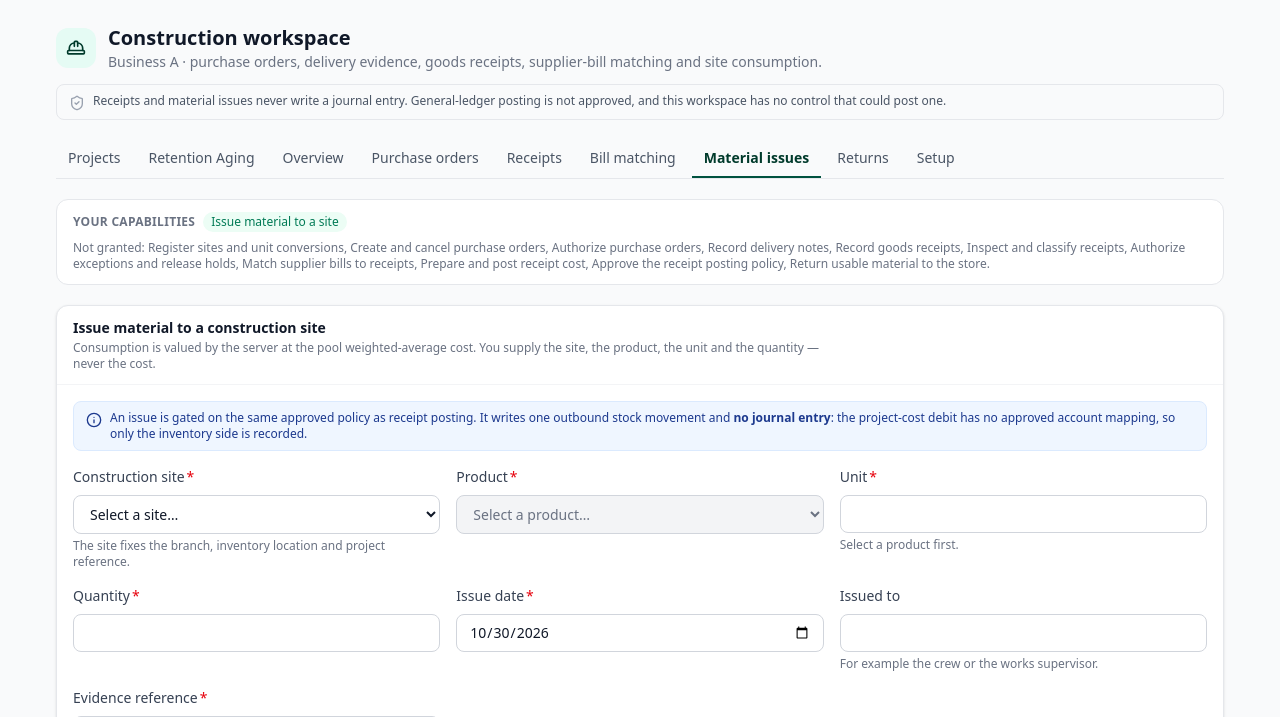
Construction workspace — material issues › uses the server-returned cost and never asks the operator for one
Select "SITE-A — Site A (PRJ-1)" in the dropdown labelled "Construction site": (257, 514) x1=73 y1=495 x2=440 y2=534
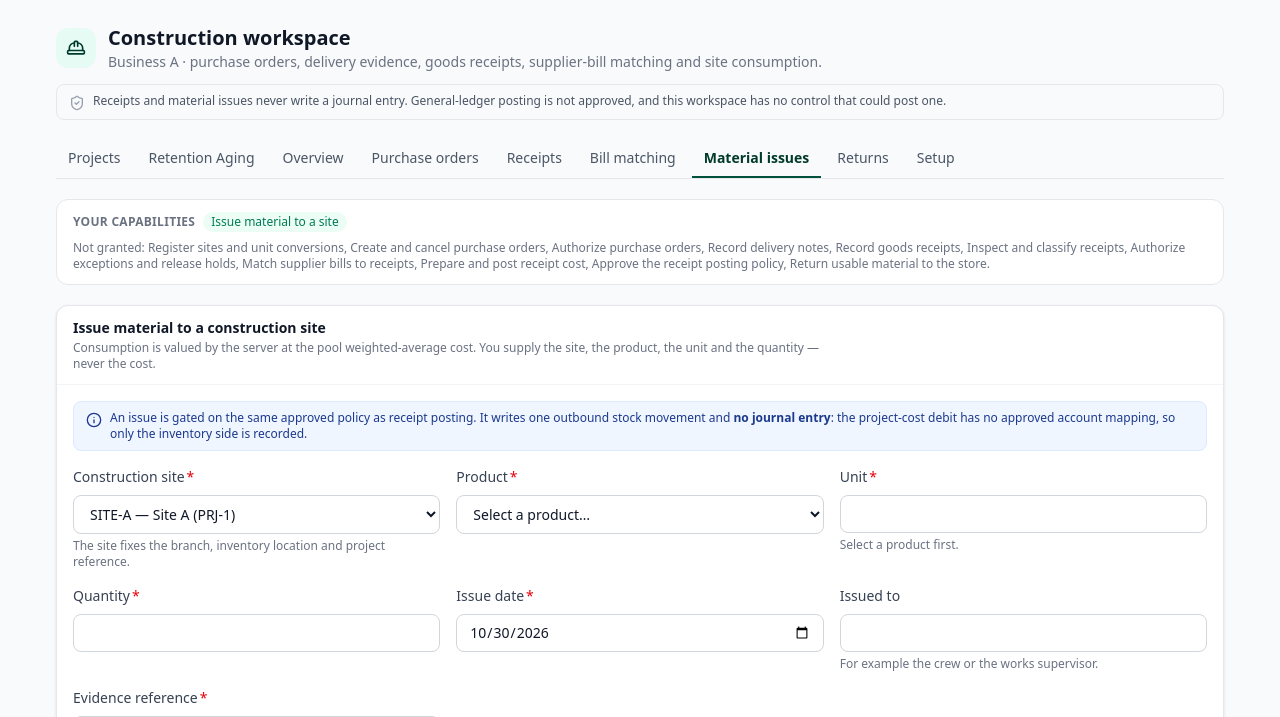
Select "Cement 50kg — on hand 24" in the dropdown labelled "Product": (640, 514) x1=456 y1=495 x2=824 y2=534
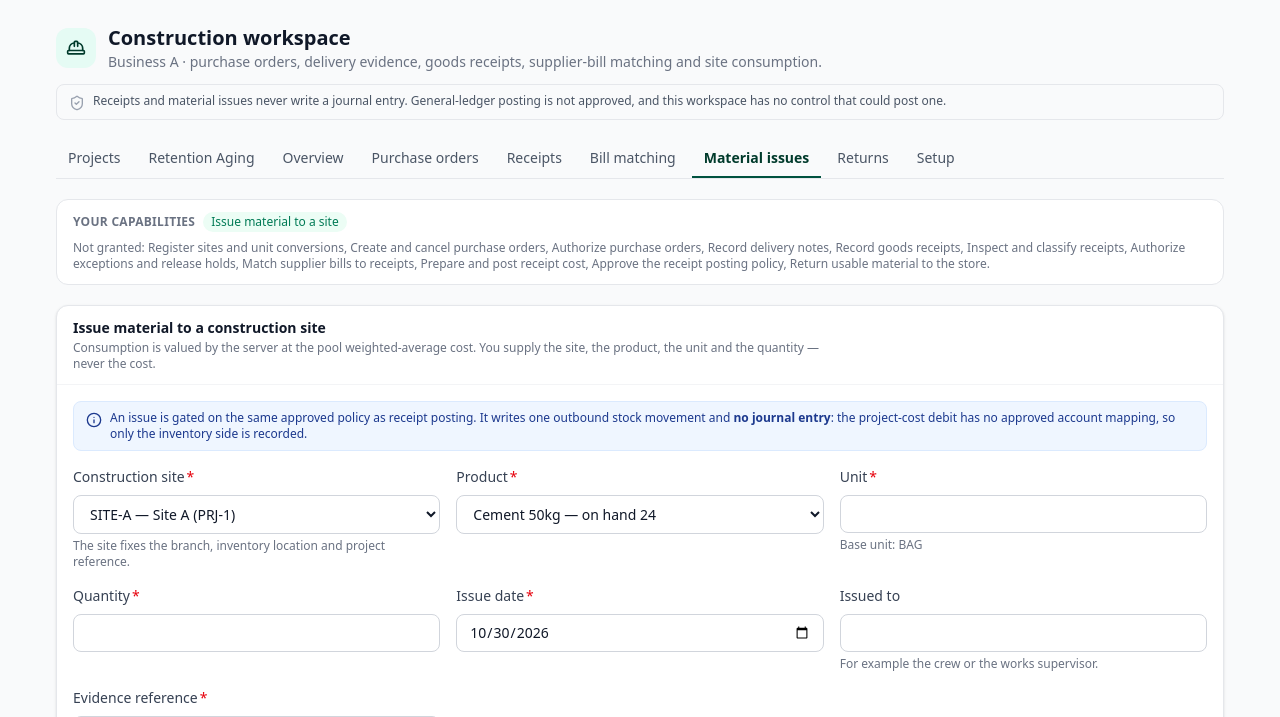
In the field named "Issue unit": (1023, 514) x1=840 y1=495 x2=1207 y2=533, type "BAG"
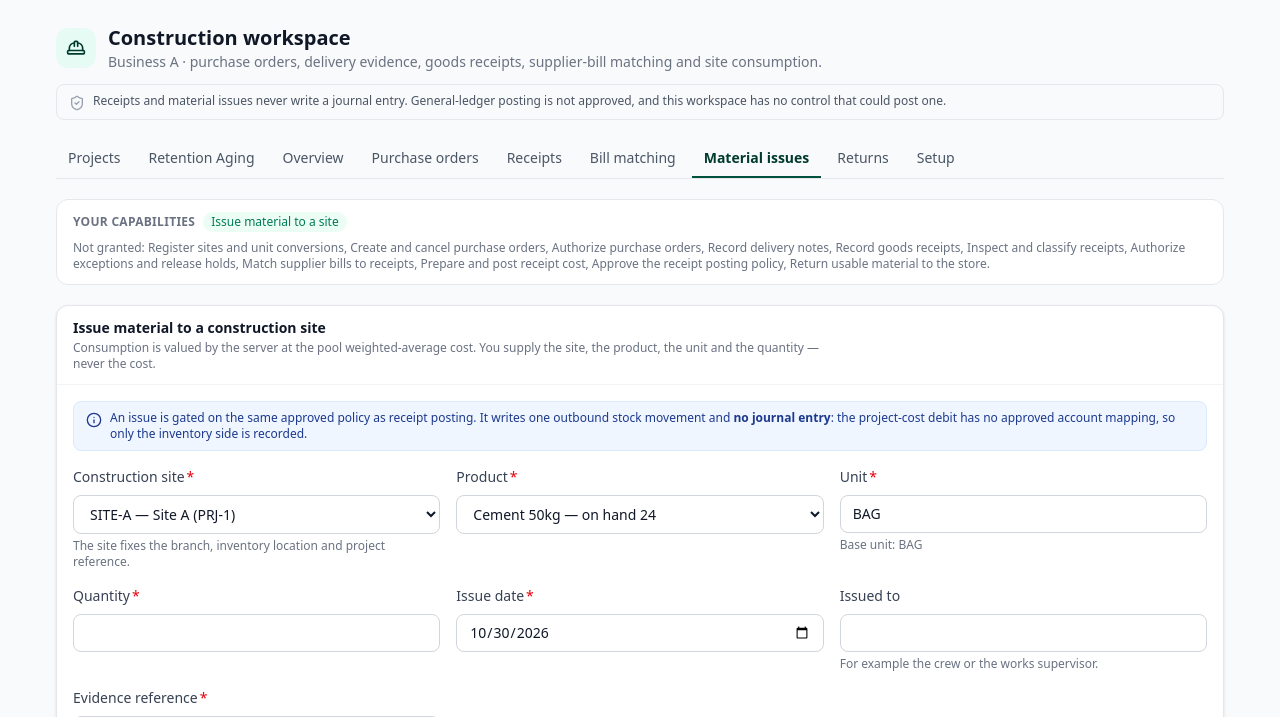
In the number field named "Issue quantity": (257, 633) x1=73 y1=614 x2=440 y2=652, type "12"
(page scrolled)
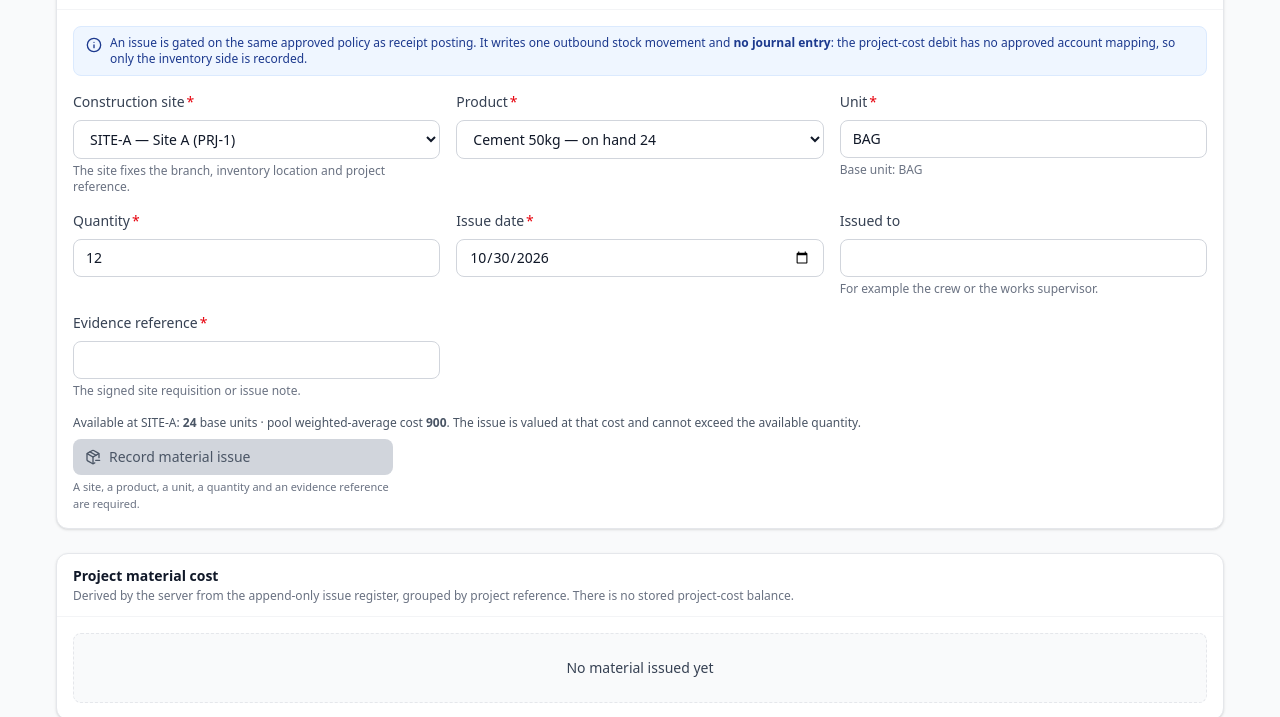
In the field labelled "Evidence reference": (257, 360) x1=73 y1=341 x2=440 y2=379, type "signed requisition"
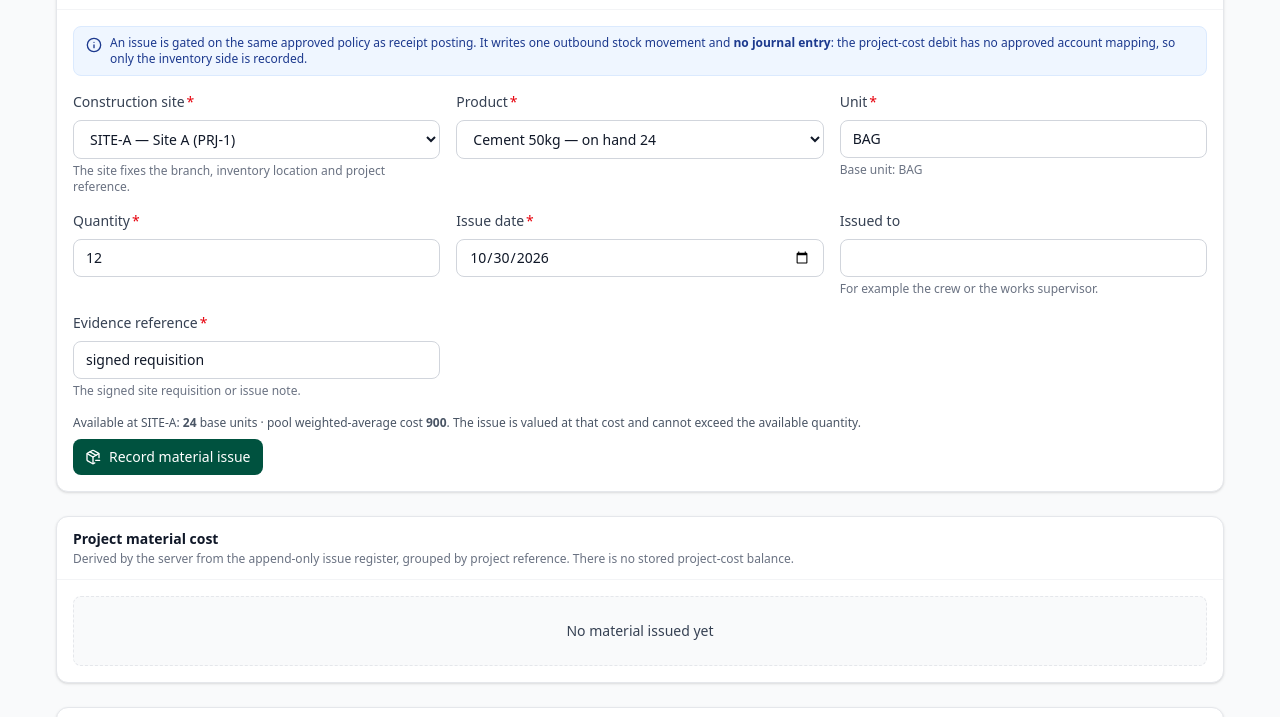
Click the button "Record material issue": click(168, 457) x1=73 y1=439 x2=262 y2=475
(page scrolled)
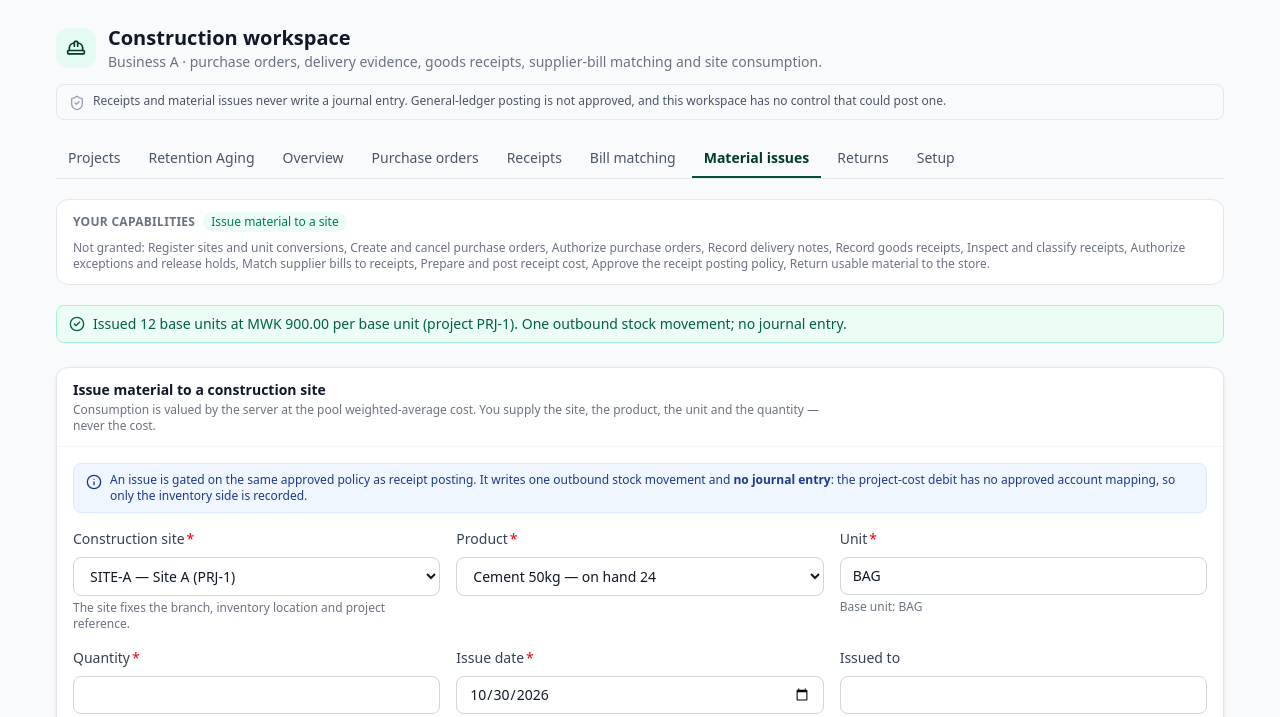
Expected: the text "no journal entry" is shown, x1=93 y1=314 x2=847 y2=333
